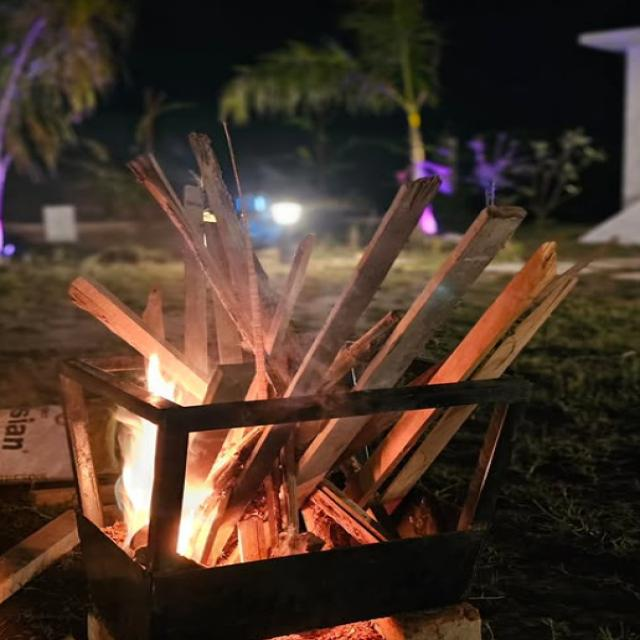fire: (114, 409, 157, 547), (176, 480, 224, 563), (145, 354, 184, 405)
